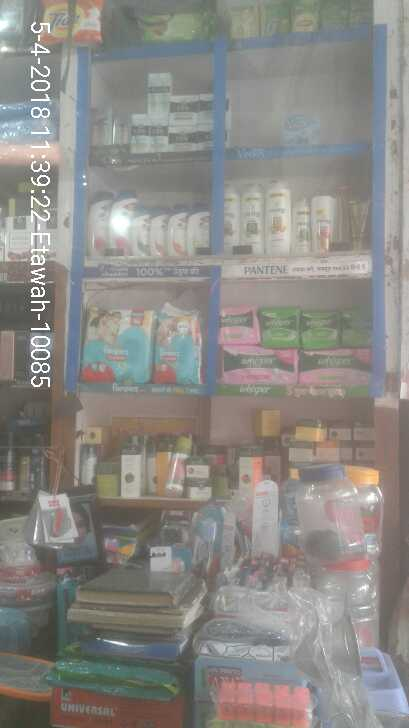venus: (281, 113, 322, 149)
